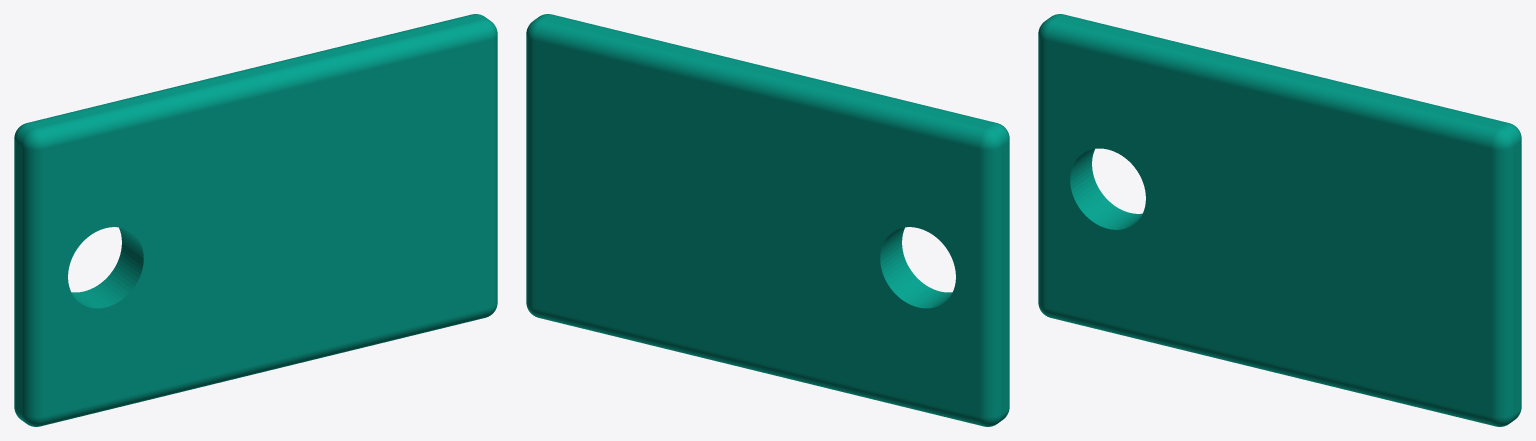
File: keychain_tag.glb
The picture shows the model from 3 angles, left to right: view 1: azimuth 30°, elevation 25°; view 2: azimuth 150°, elevation 25°; view 3: azimuth 330°, elevation 25°; orthographic projection.
Visible parts, largest first — view 1: geometry_0; view 2: geometry_0; view 3: geometry_0.
Part boxes in pixels (left/top/right/bottom): geometry_0: left=14, top=14, right=497, bottom=426; geometry_0: left=526, top=14, right=1009, bottom=426; geometry_0: left=1038, top=14, right=1521, bottom=426.
Bounding box in the file's own units: 50 × 30 × 4.
